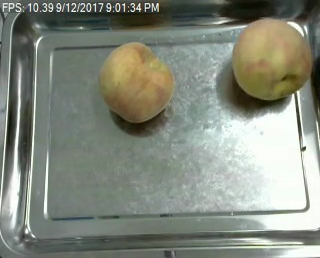Peach: (229, 16, 311, 101), (97, 41, 175, 125)
